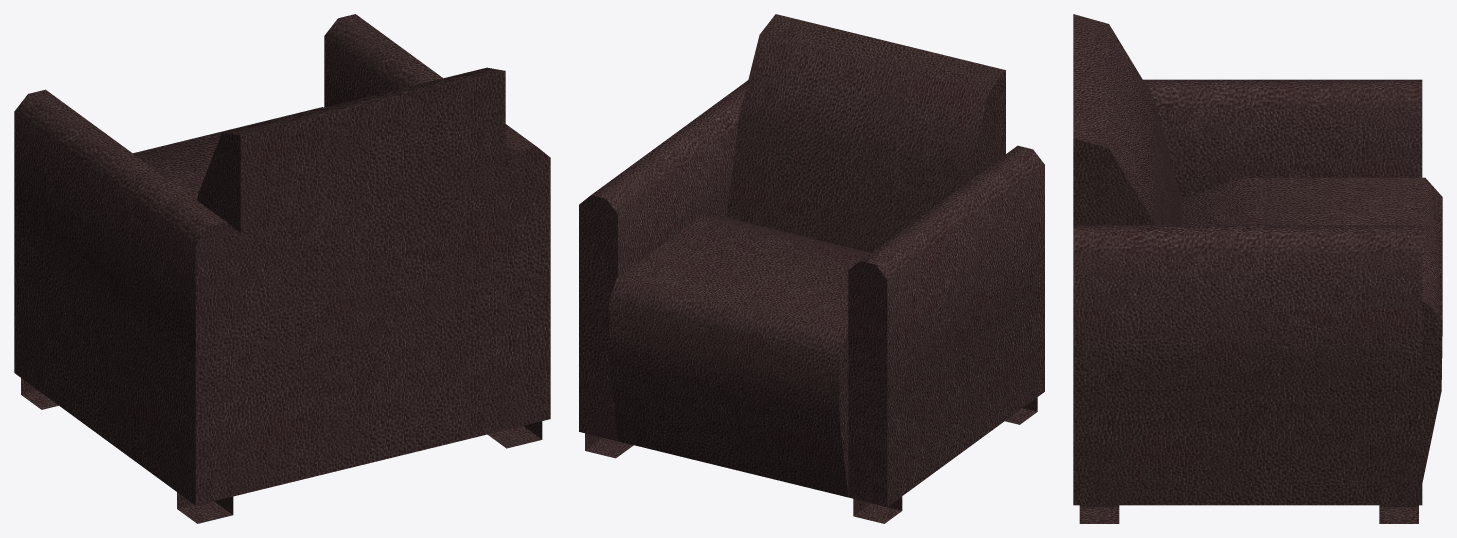
File: Armchair_03-col.glb
3 views of the same model, side by side, from view 1: azimuth 30°, elevation 25°; view 2: azimuth 150°, elevation 25°; view 3: azimuth 270°, elevation 25° (orthographic). The views are drawn at different scales.
Visible parts, largest first — view 1: Armchair_03-col; view 2: Armchair_03-col; view 3: Armchair_03-col.
Boxes of the visible parts, x1,y1,x2,y2 form: Armchair_03-col: (14, 14, 550, 523); Armchair_03-col: (579, 14, 1044, 523); Armchair_03-col: (1073, 14, 1442, 523).
Bounding box in the file's own units: 0.9309 × 0.955 × 0.8718.
Materials: 1 (1 with a texture image).
